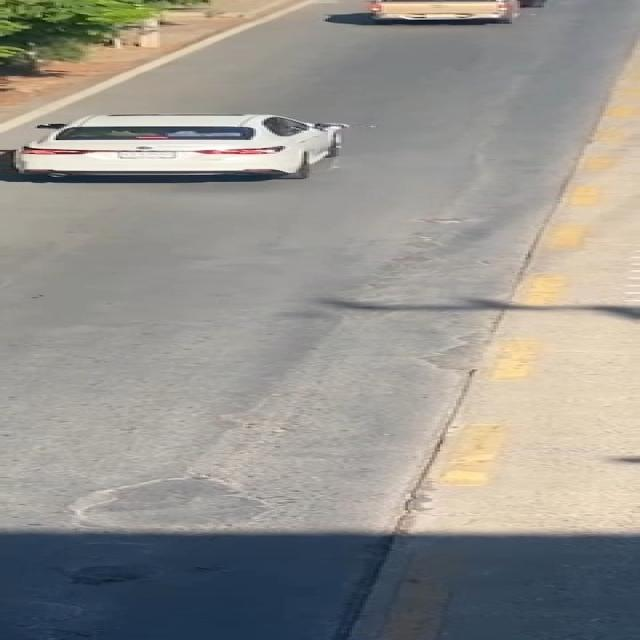car: (0, 106, 373, 185), (350, 0, 537, 30)
